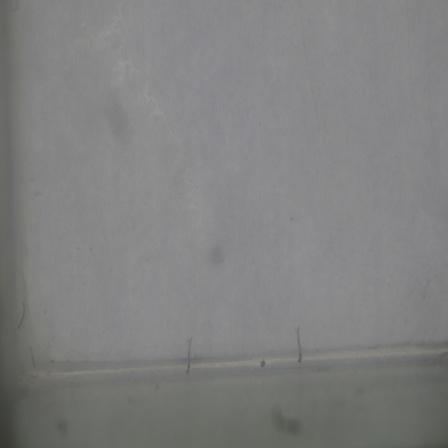Jentik-Nyamuk: (179, 333, 197, 381), (292, 323, 307, 365)
